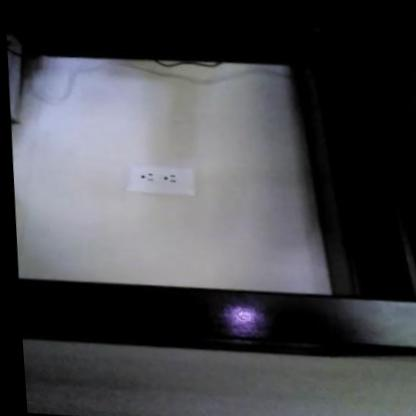OUTLET: (120, 162, 194, 195)
